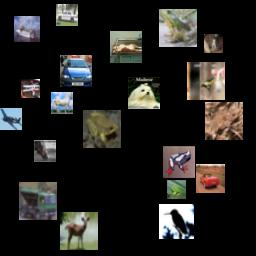airplane: (0, 108, 22, 130), (21, 79, 40, 98)
automobile: (60, 55, 92, 87), (196, 164, 225, 193), (56, 4, 78, 26)
bird: (187, 62, 225, 100), (159, 204, 194, 239)
cat: (110, 31, 142, 63)
deer: (60, 212, 98, 250)
dog: (128, 77, 160, 109), (204, 34, 223, 53)
frog: (205, 102, 243, 140), (83, 110, 121, 148), (159, 9, 197, 47), (163, 146, 195, 178), (167, 180, 186, 199)
ship: (14, 16, 40, 42)
truck: (19, 182, 57, 220)
